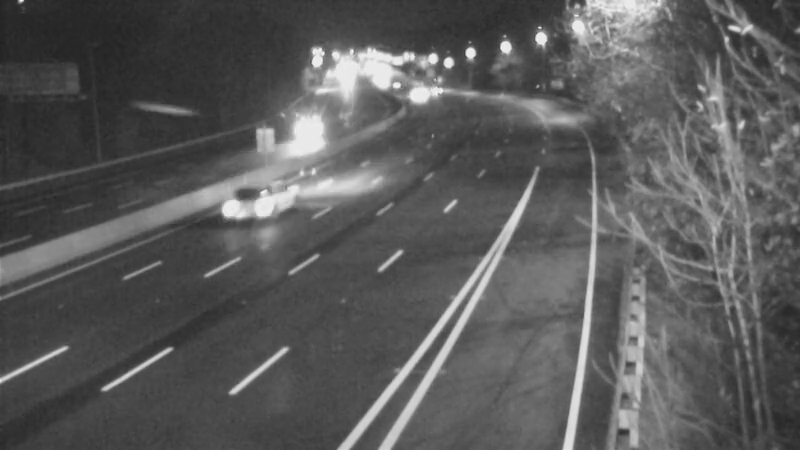vehicle: (203, 157, 283, 237), (410, 66, 460, 116), (395, 73, 445, 123), (278, 107, 328, 157)
